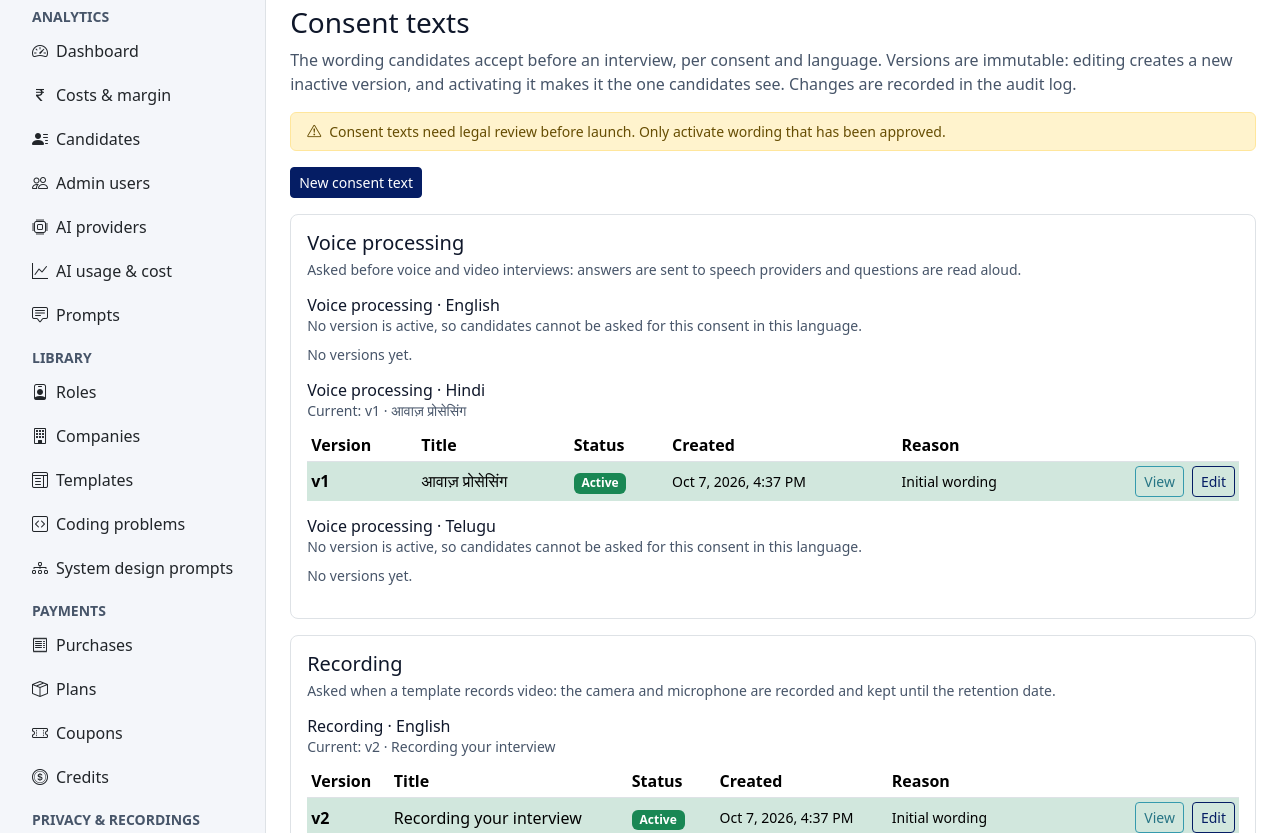
consent texts › groups versions by consent and language with the active one highlighted
This screenshot has width=1280, height=833.
Expected: the text "Consent texts need legal review before launch" is shown, [329, 122, 946, 141]
Expected: the text "Current: v2 · Recording your interview" is shown, [307, 737, 556, 756]
Click the button with aria-label "View Recording English v2".
click(1160, 818)  # box [1135, 802, 1184, 832]
(page scrolled)
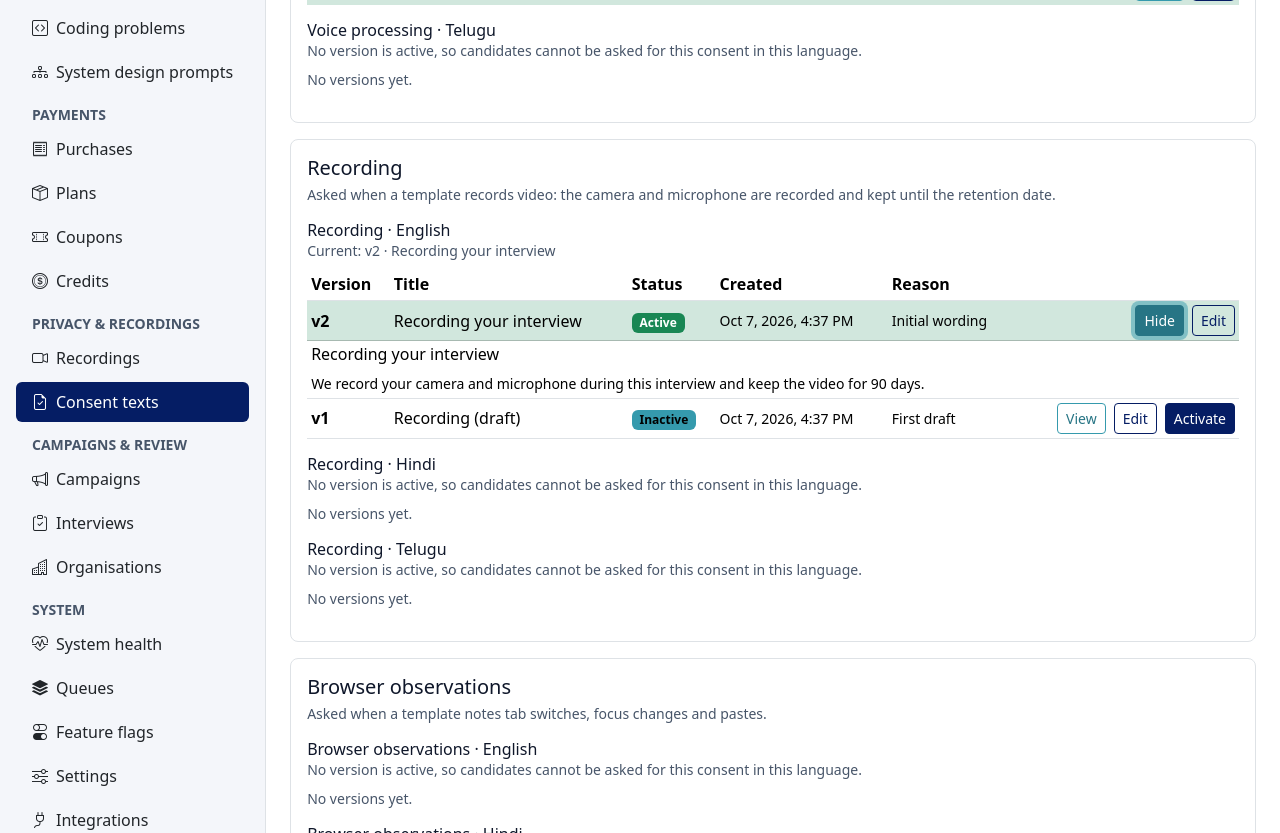
Expected: the text "keep the video for 90 days" is shown, [311, 374, 924, 392]
